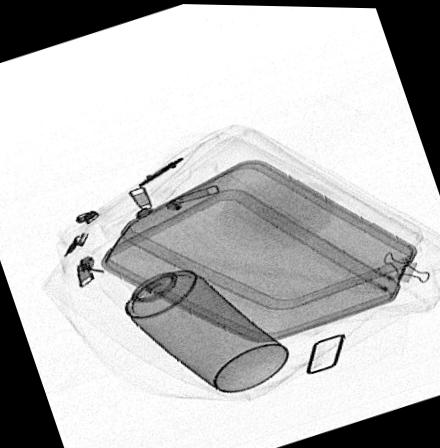Sprayer: (100, 240, 292, 394)
